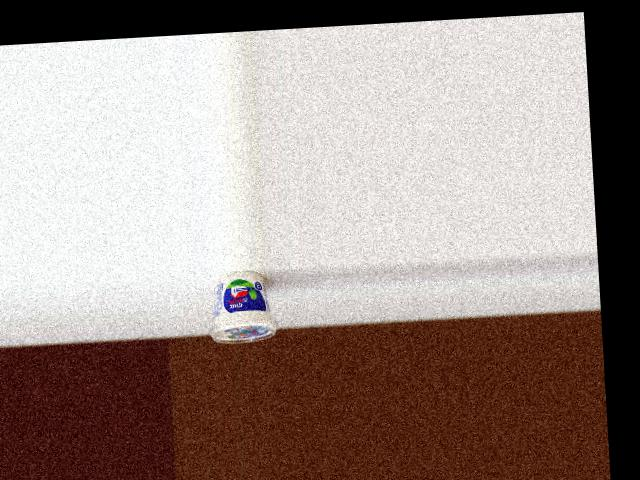cotage: (204, 269, 277, 344)
